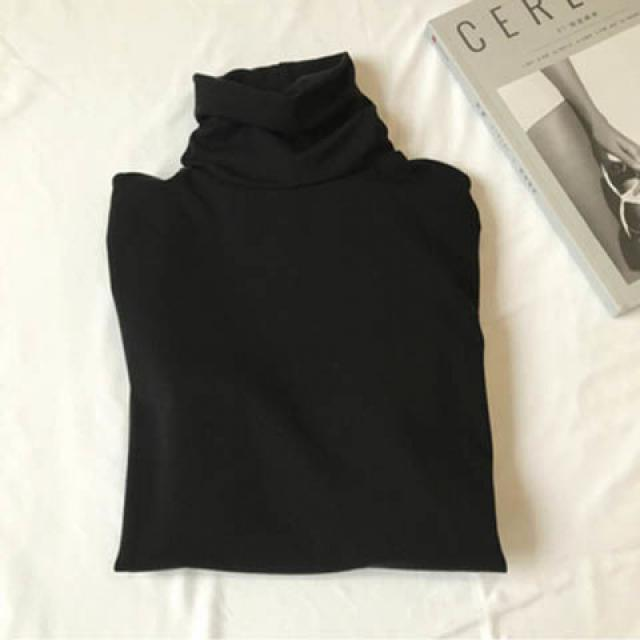Shirt: (106, 47, 507, 584)
